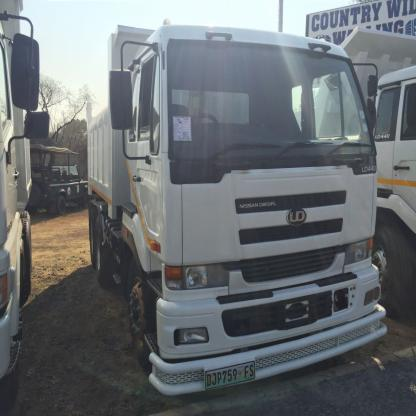dump_truck: (78, 14, 397, 400)
